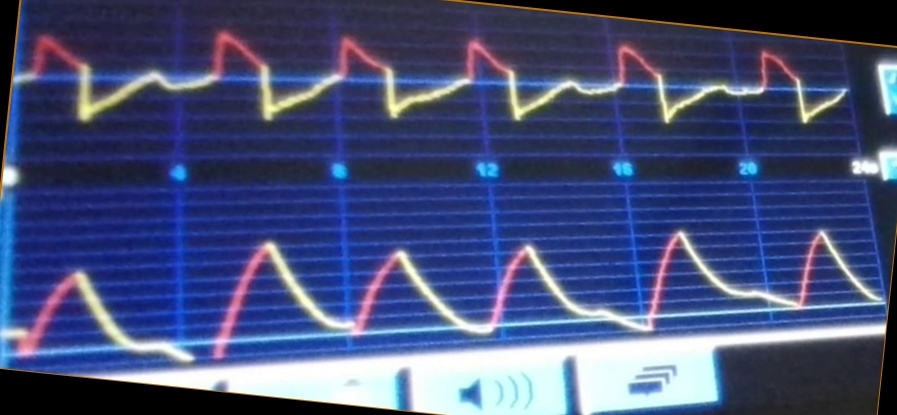Ineffective_effort Flow: (18, 28, 847, 139)
Ineffective_effort Volume: (10, 226, 881, 362)
